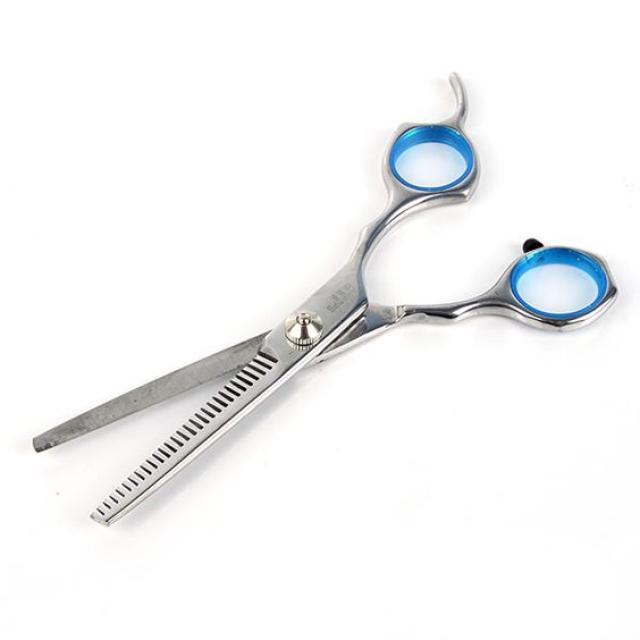Gunting: (27, 68, 610, 536)
